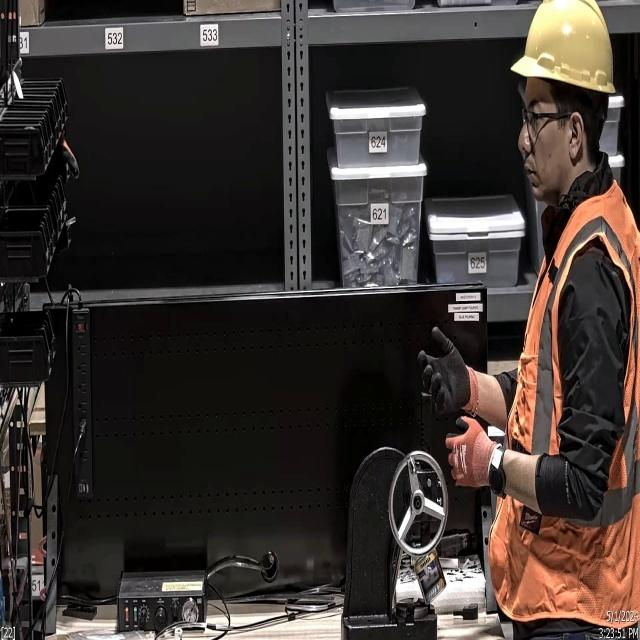gloves: (412, 324, 486, 418), (442, 414, 502, 500)
